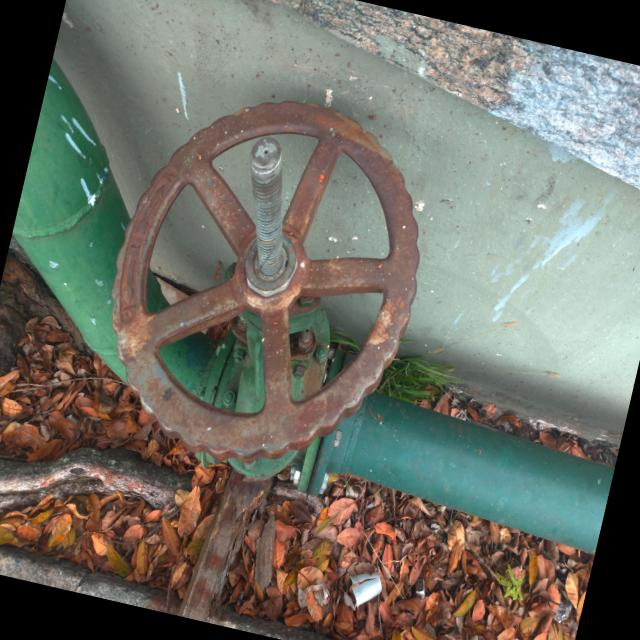gas: (15, 51, 608, 550)
